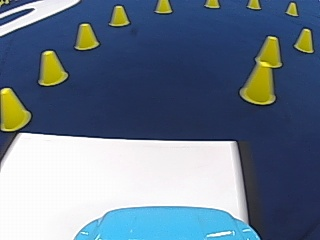cone: (239, 50, 276, 104), (0, 87, 31, 130), (37, 49, 68, 85), (256, 35, 282, 68), (74, 22, 99, 50), (294, 27, 313, 52), (108, 4, 129, 26), (154, 0, 171, 14), (285, 1, 298, 16), (247, 0, 260, 10), (205, 0, 219, 8)
